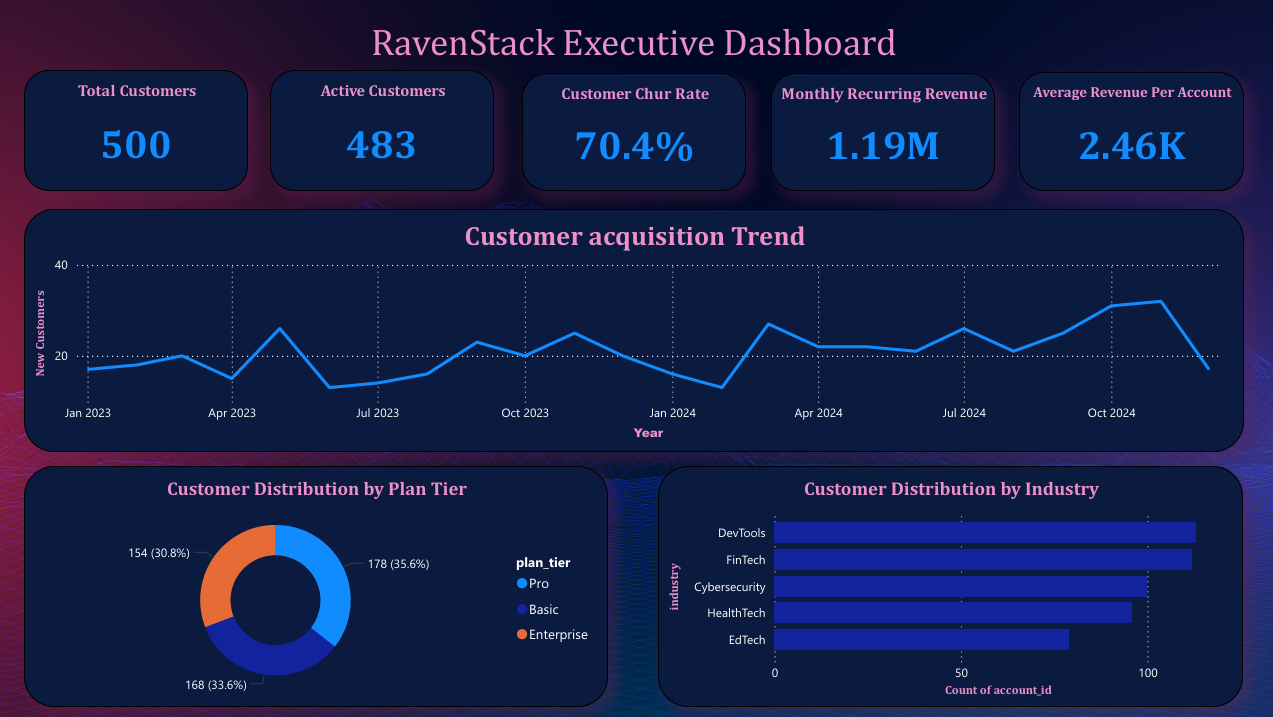

The dashboard page shown, as its layout file describes it:
{"tool":"powerbi","page":{"name":"Executive Overview","canvas":[1280,720],"ordinal":0},"visuals":[{"type":"card","title":"Total Customers","fields":{"Values":["Sum(ravenstack_analytics vw_executive_metrics.total_customers)"]},"box":[24.5,68.9,223.9,120.7],"z":0},{"type":"lineChart","title":"Customer acquisition Trend","fields":{"Y":["CountNonNull(ravenstack_analytics accounts.account_id)"],"Category":["ravenstack_analytics accounts.signup_date.Variation.Date Hierarchy.Year","ravenstack_analytics accounts.signup_date.Variation.Date Hierarchy.Month"]},"box":[24.1,207.7,1219.5,243.1],"z":1000},{"type":"donutChart","title":"Customer Distribution by Plan Tier","fields":{"Category":["ravenstack_analytics accounts.plan_tier"],"Y":["CountNonNull(ravenstack_analytics accounts.account_id)"]},"box":[24.1,465,584.1,240.5],"z":2000},{"type":"barChart","title":"Customer Distribution by Industry","fields":{"Category":["ravenstack_analytics accounts.industry"],"Y":["CountNonNull(ravenstack_analytics accounts.account_id)"]},"box":[658.5,465,584.1,240.5],"z":3000},{"type":"card","title":"Active Customers","fields":{"Values":["Sum(ravenstack_analytics vw_executive_metrics.active_customers)"]},"box":[270,69,224,121],"z":4000},{"type":"card","title":"Historical Chur Rate","fields":{"Values":["Sum(ravenstack_analytics vw_executive_metrics.churn_rate)"]},"box":[522,72,224,118],"z":5000},{"type":"card","title":"Monthly Recurring Revenue","fields":{"Values":["Sum(ravenstack_analytics vw_executive_metrics.total_mrr)"]},"box":[771,72,224,118],"z":6000},{"type":"card","title":"Average Revenue Per Account","fields":{"Values":["Sum(ravenstack_analytics vw_executive_metrics.arpa)"]},"box":[1019.4,70.9,224.1,119],"z":7000},{"type":"textbox","box":[24.1,13.9,1219.5,58.3],"z":8000}]}

Visuals, with their boxes in screenshot pixels (x1, y1, x2, y2), scaled from the page's 1280x720 canvas onto the 1273x717 screenshot:
"Total Customers" card: left=24, top=69, right=247, bottom=189
"Customer acquisition Trend" lineChart: left=24, top=207, right=1237, bottom=449
"Customer Distribution by Plan Tier" donutChart: left=24, top=463, right=605, bottom=703
"Customer Distribution by Industry" barChart: left=655, top=463, right=1236, bottom=703
"Active Customers" card: left=269, top=69, right=491, bottom=189
"Historical Chur Rate" card: left=519, top=72, right=742, bottom=189
"Monthly Recurring Revenue" card: left=767, top=72, right=990, bottom=189
"Average Revenue Per Account" card: left=1014, top=71, right=1237, bottom=189
textbox: left=24, top=14, right=1237, bottom=72
